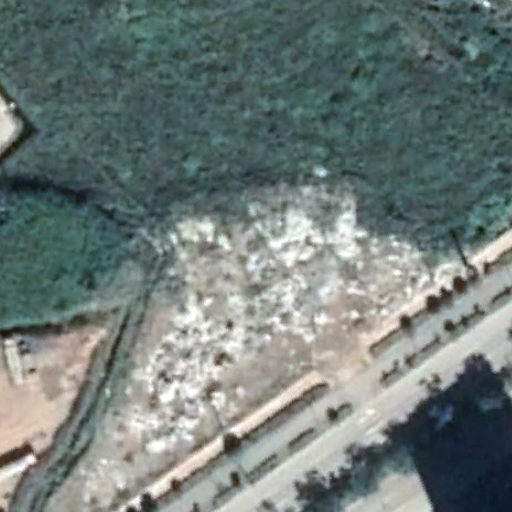msw: (105, 197, 433, 452)
